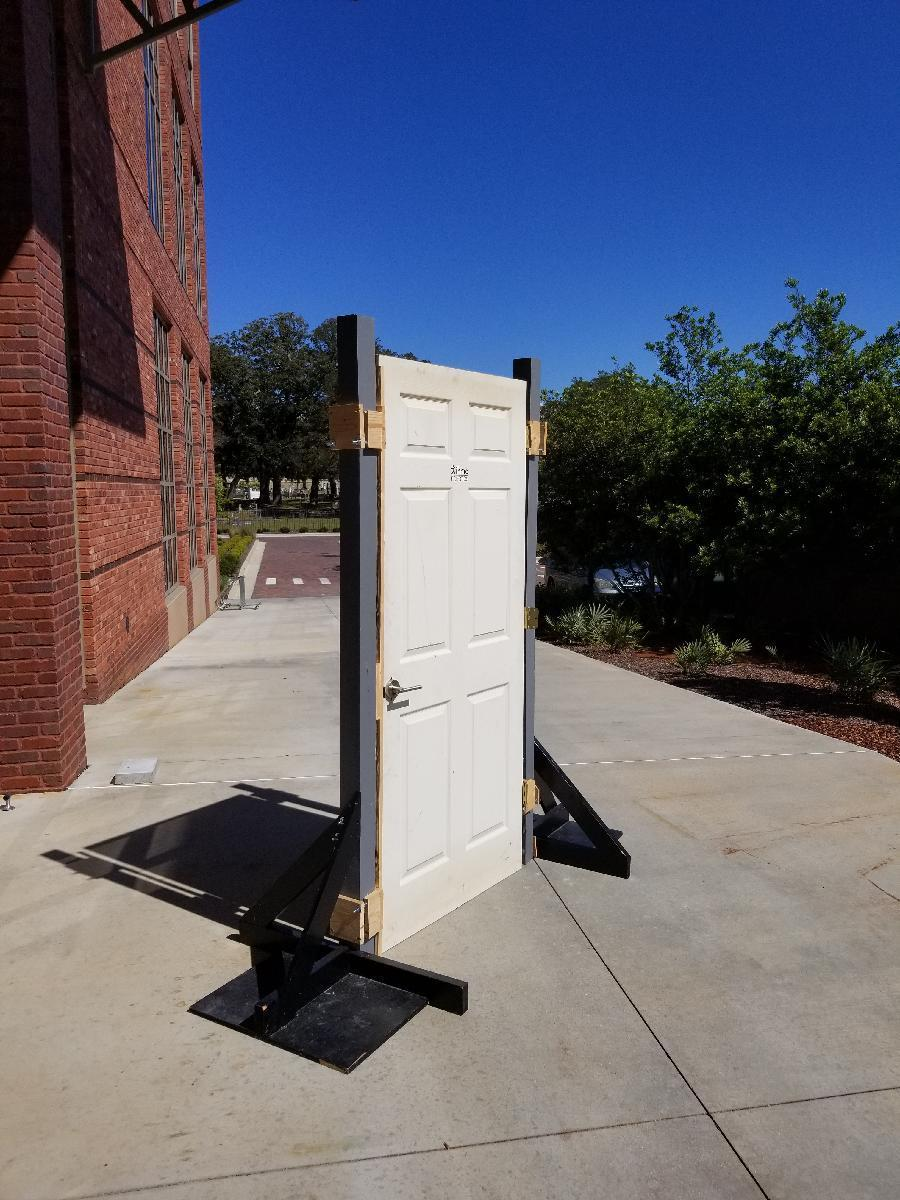door: (376, 358, 520, 915)
handle: (382, 678, 426, 705)
